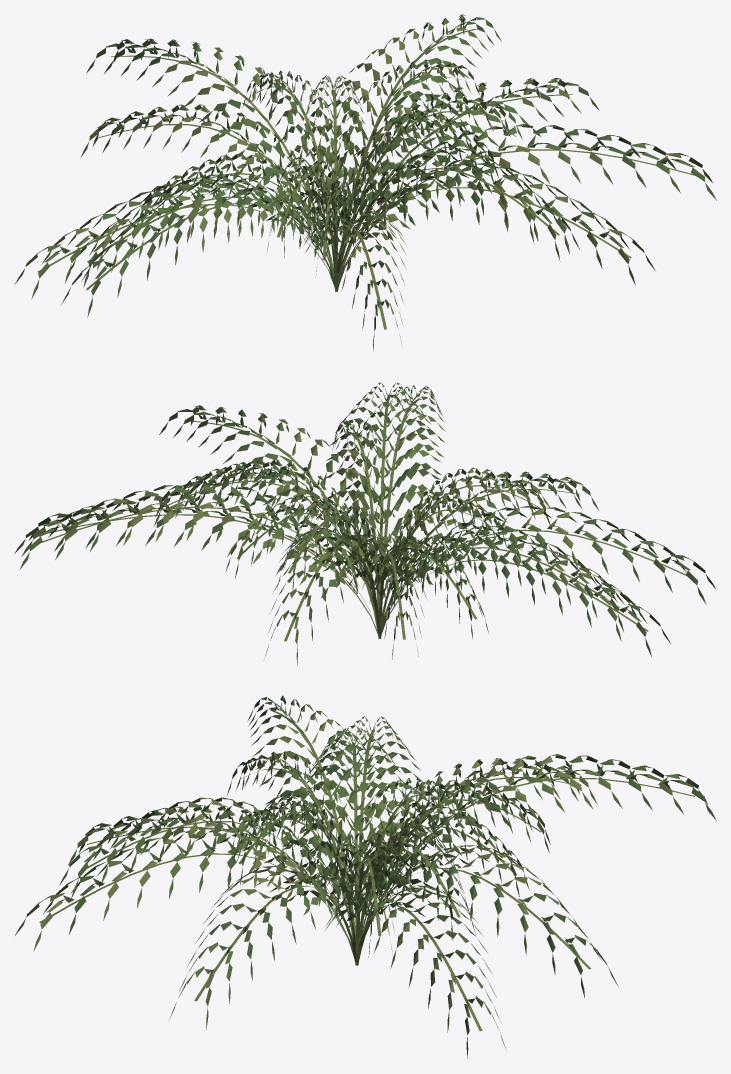
Rendered from ValleyFern.glb.
3 views of the same model, one above another, from view 1: azimuth 30°, elevation 25°; view 2: azimuth 150°, elevation 25°; view 3: azimuth 270°, elevation 25° (orthographic). The views are drawn at different scales.
Visible parts, largest first — view 1: ValleyFern; view 2: ValleyFern; view 3: ValleyFern.
Boxes of the visible parts, x1,y1,x2,y2 form: ValleyFern: (14,14,716,350); ValleyFern: (14,382,716,665); ValleyFern: (15,695,716,1058).
Bounding box in the file's own units: 1.42 × 0.4077 × 1.33.
